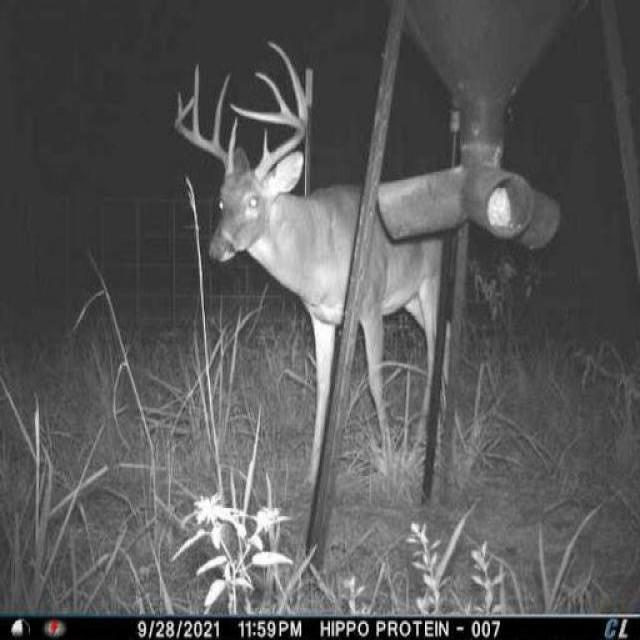deer: (162, 30, 468, 501)
